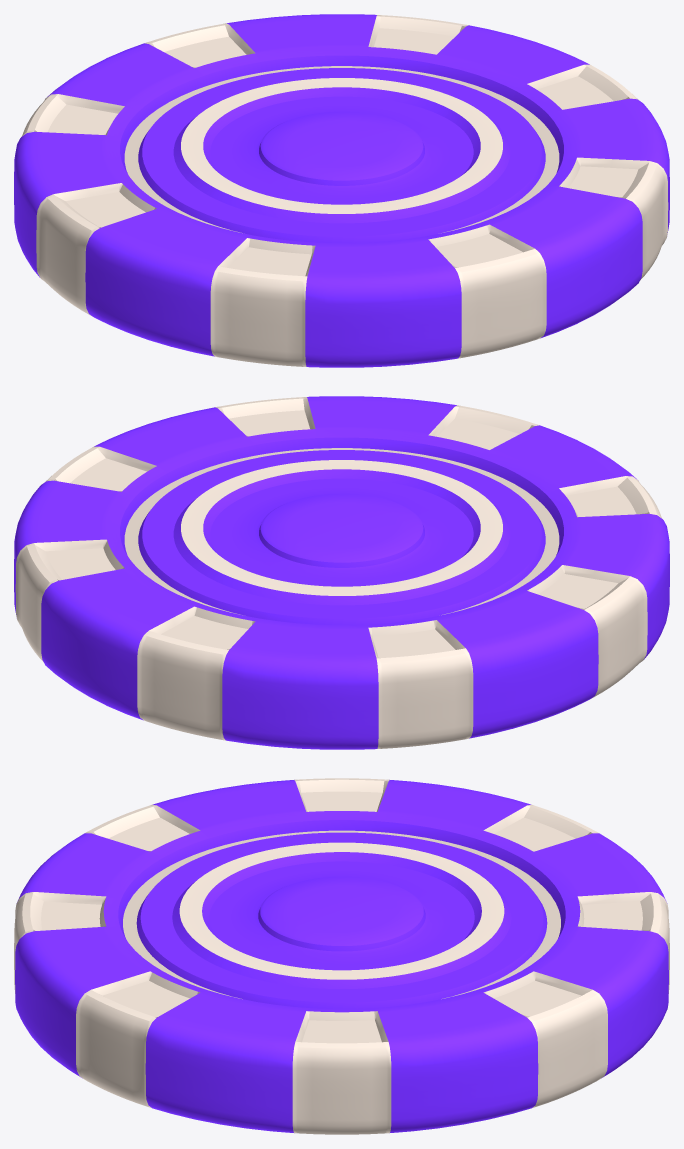
File: PokerChip_Purple.glb
The picture shows the model from 3 angles, top to bottom: view 1: azimuth 30°, elevation 25°; view 2: azimuth 150°, elevation 25°; view 3: azimuth 270°, elevation 25°; orthographic projection.
Visible parts, largest first — view 1: PokerChip_Purple; view 2: PokerChip_Purple; view 3: PokerChip_Purple.
Boxes of the visible parts, box(x1,y1,x2,y2) form: PokerChip_Purple: box(14, 14, 669, 367); PokerChip_Purple: box(14, 396, 669, 749); PokerChip_Purple: box(14, 778, 669, 1134).
Size of the model in its own units: 1.98 by 0.324 by 1.98.
